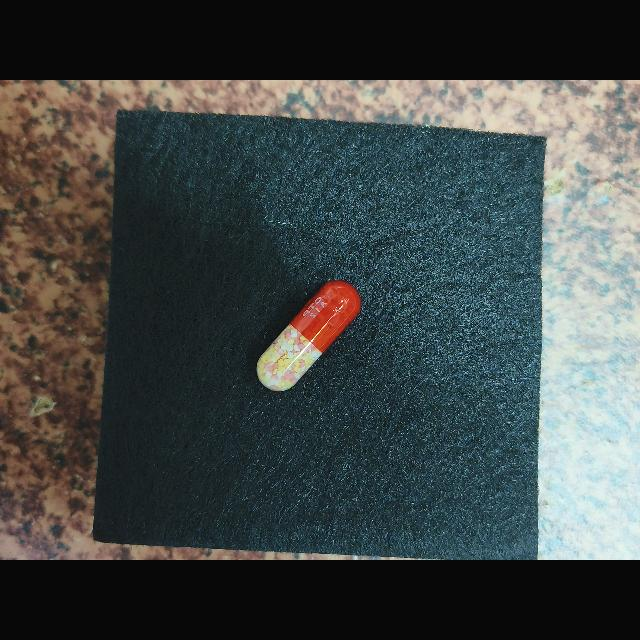Intact Capsule: (256, 280, 361, 391)
